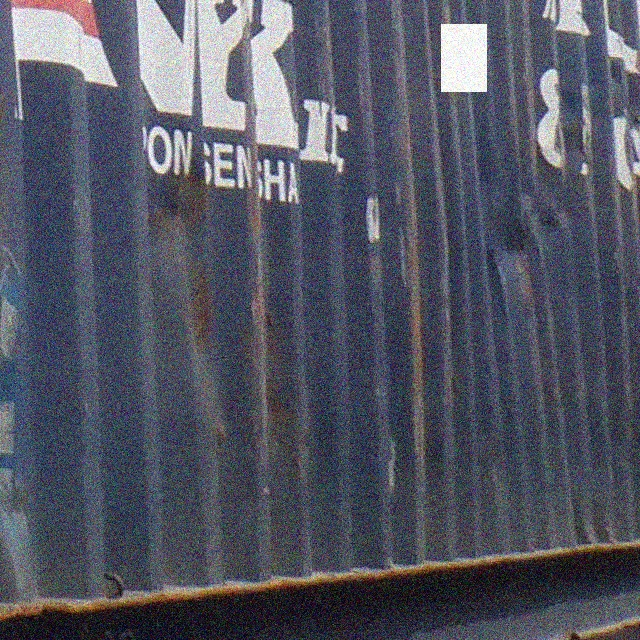Dent: (464, 106, 600, 319)
Rusty: (146, 147, 268, 457)
